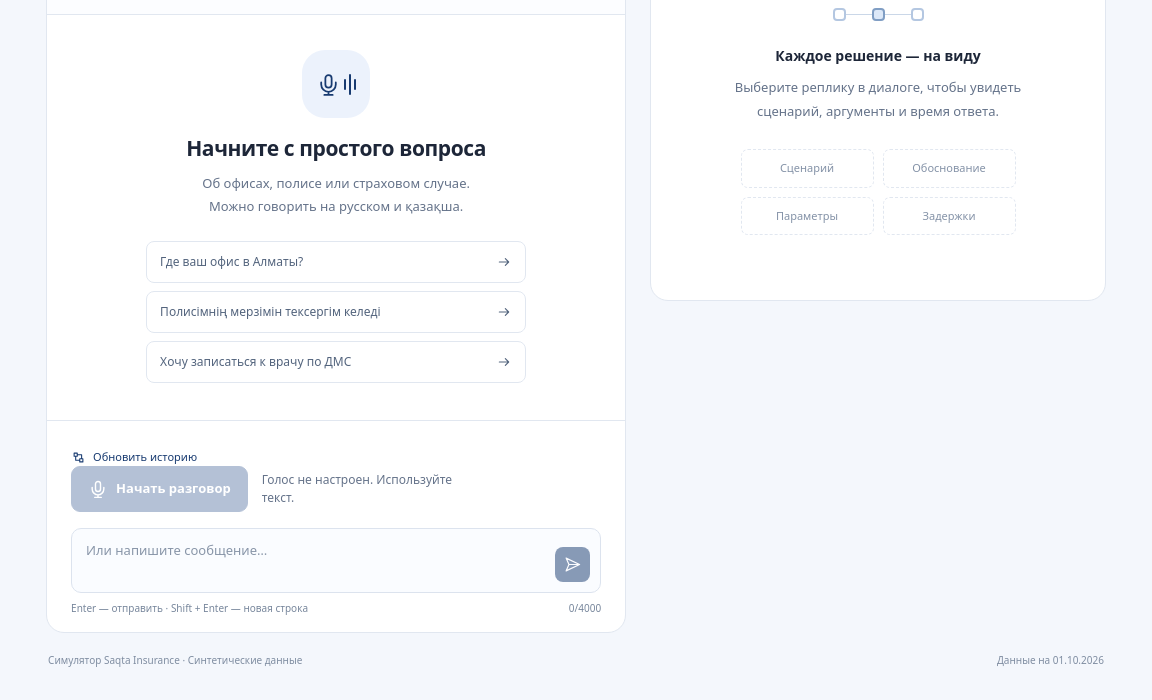
it: conversation lifecycle › marks an operator handoff as simulated and displays its context
(page scrolled)
Type "Позовите оператора" into the text box named "Ваша реплика" at (317, 560), box x1=86 y1=539 x2=547 y2=582
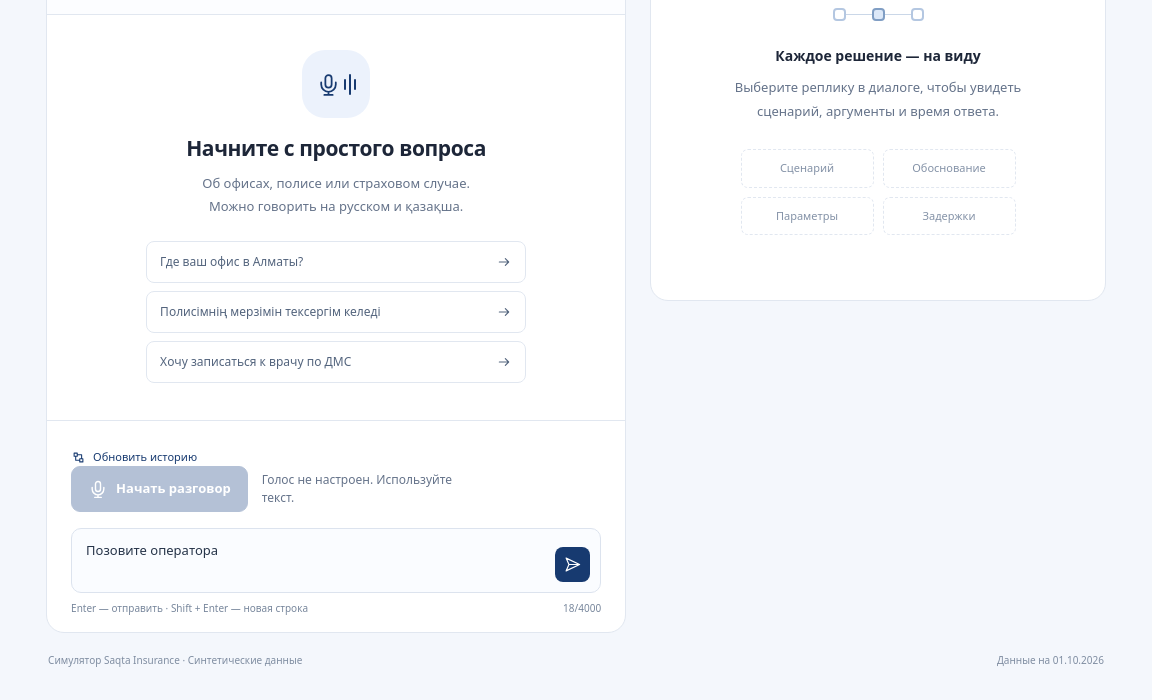
Click the button named "Отправить реплику" at (573, 564), box x1=555 y1=547 x2=590 y2=582
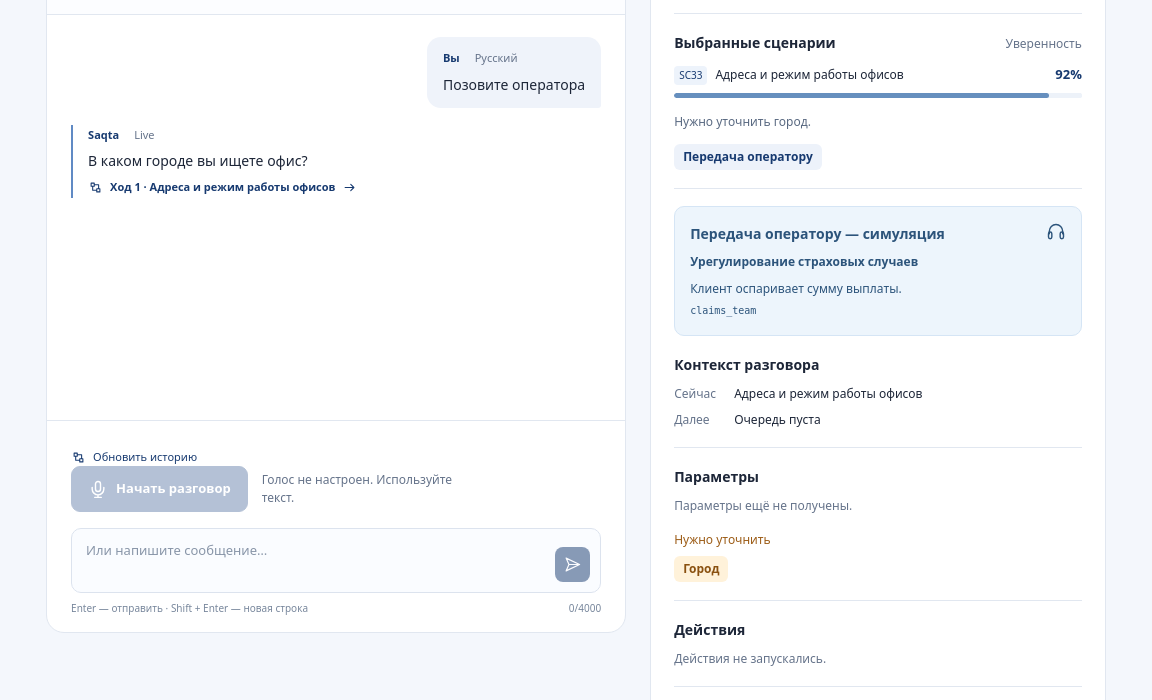
Check: the heading "Передача оператору — симуляция" is shown, box x1=690 y1=224 x2=945 y2=243
Check: the text "Клиент оспаривает сумму выплаты." is shown, box x1=690 y1=280 x2=902 y2=297
Check: the text "Урегулирование страховых случаев" is shown, box x1=690 y1=253 x2=918 y2=270
